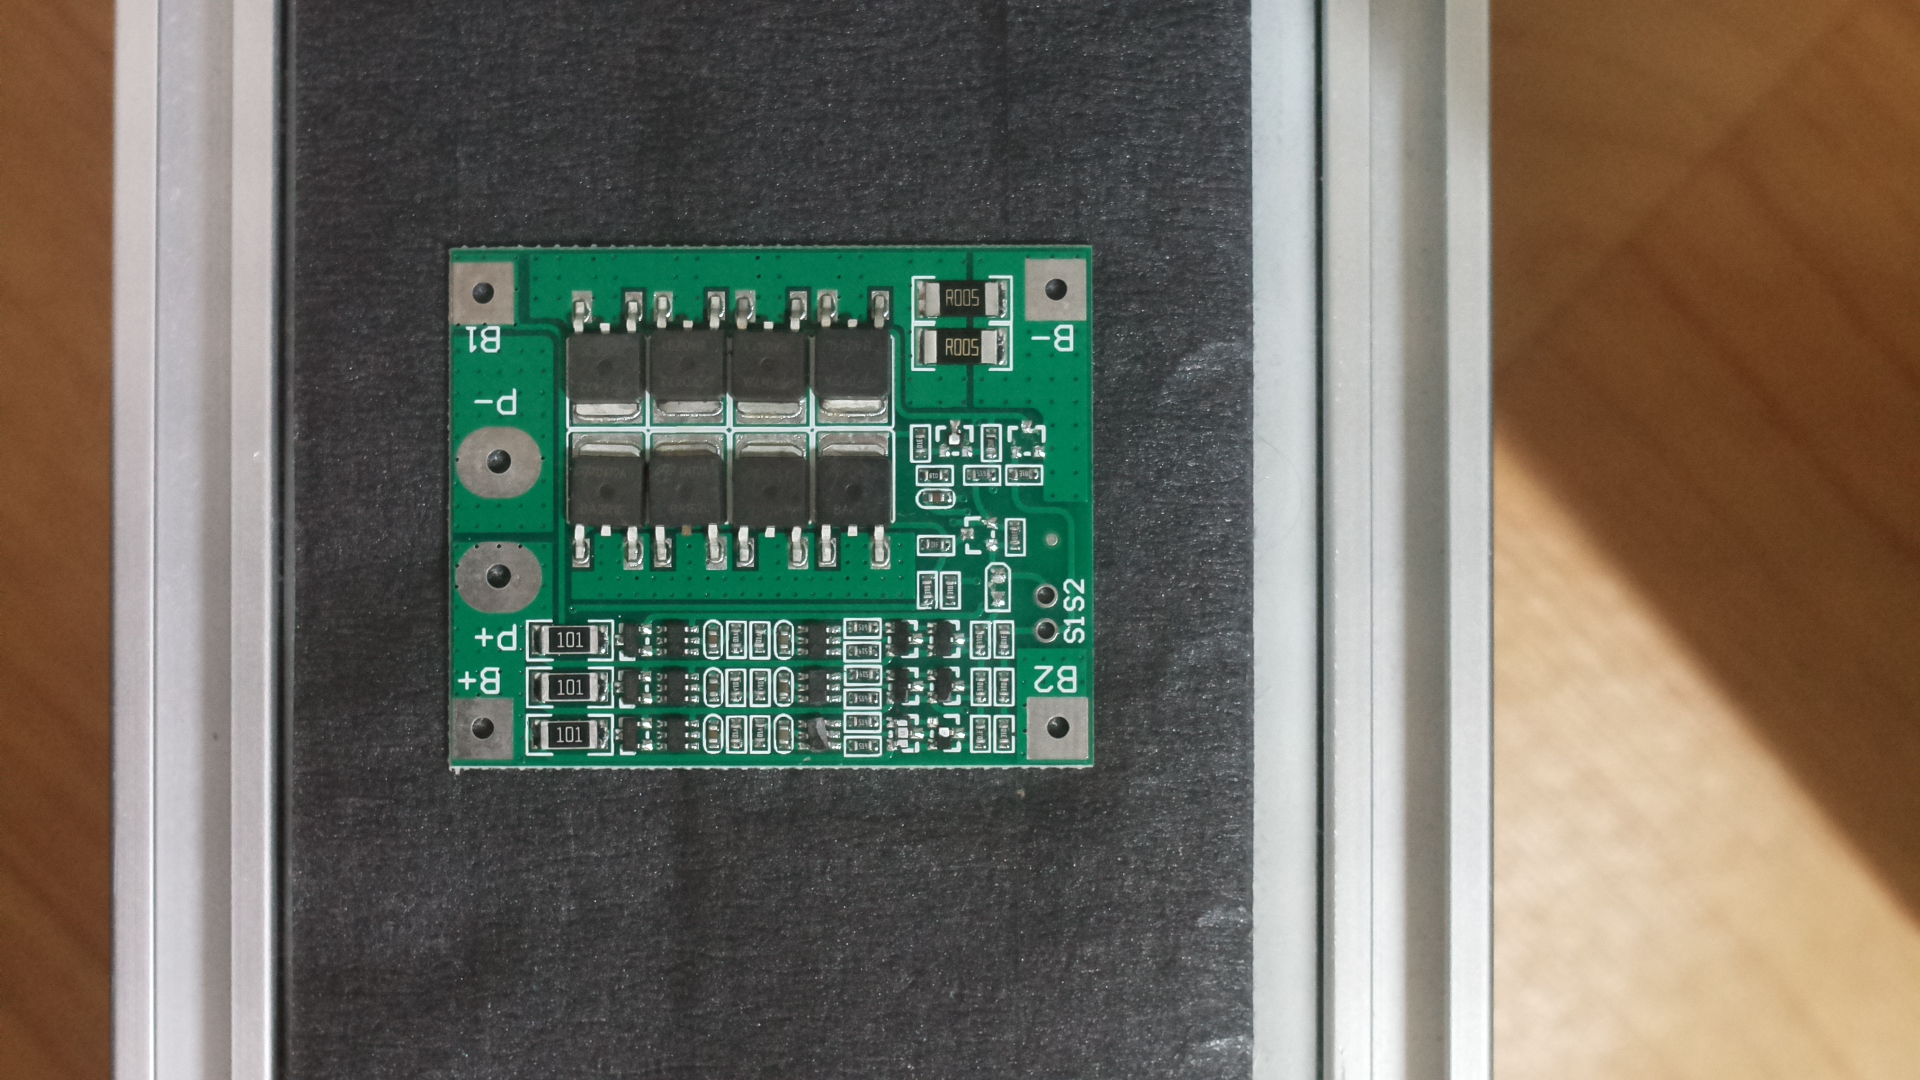C_Missing_part: (433, 225, 1109, 787)
